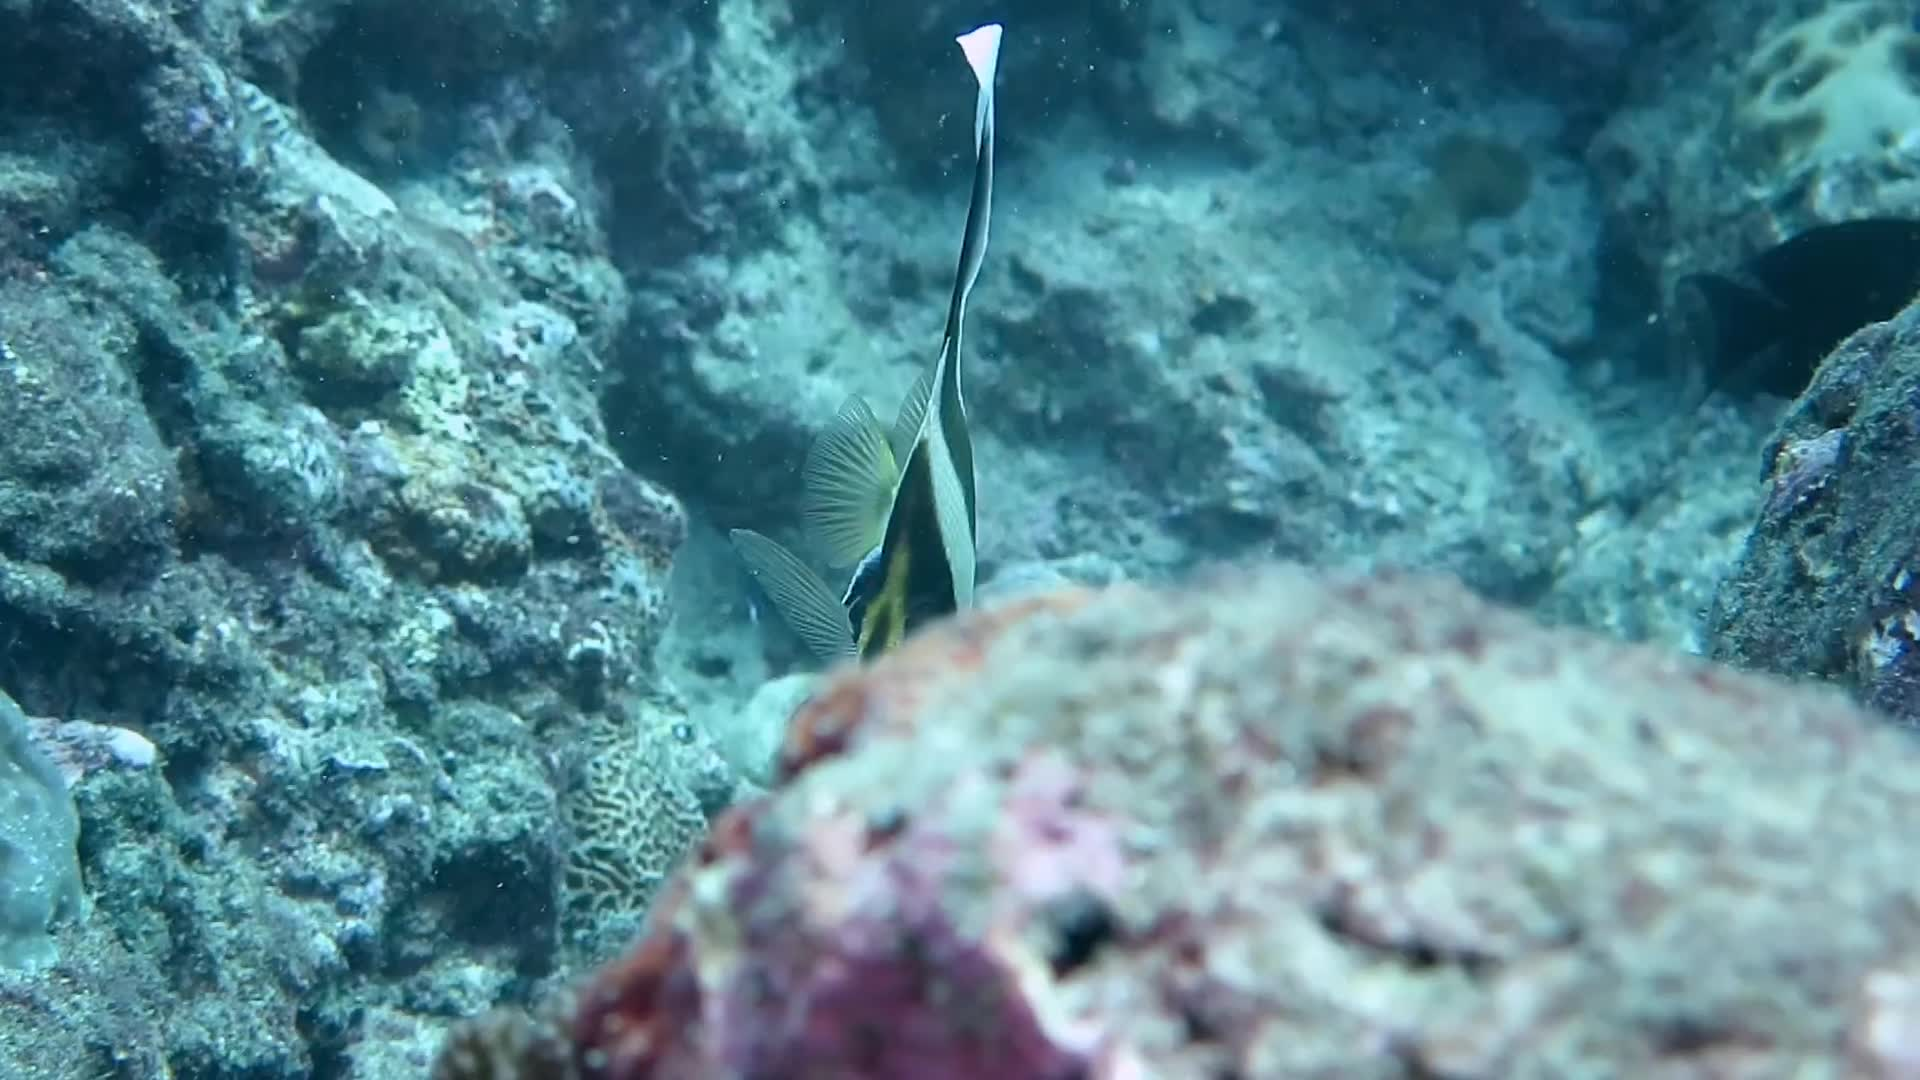Heniochus chrysostomus: (694, 29, 1229, 673)
